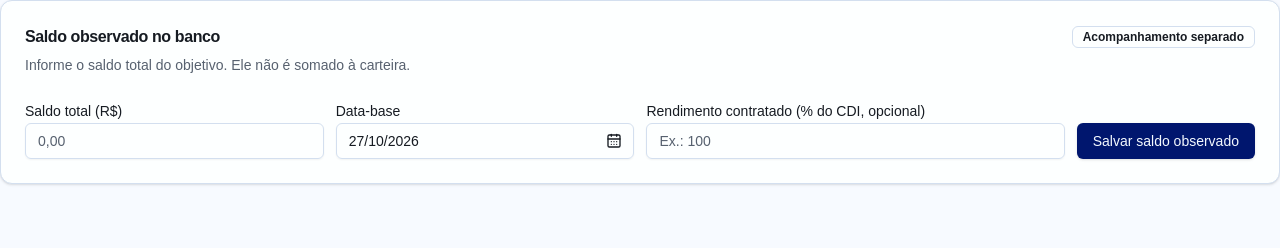
PortfolioObjectiveBalanceTracking › requires an observed amount before saving
Step 1. Click the button "Salvar saldo observado" → click(1166, 141), box [1077,123,1255,159]
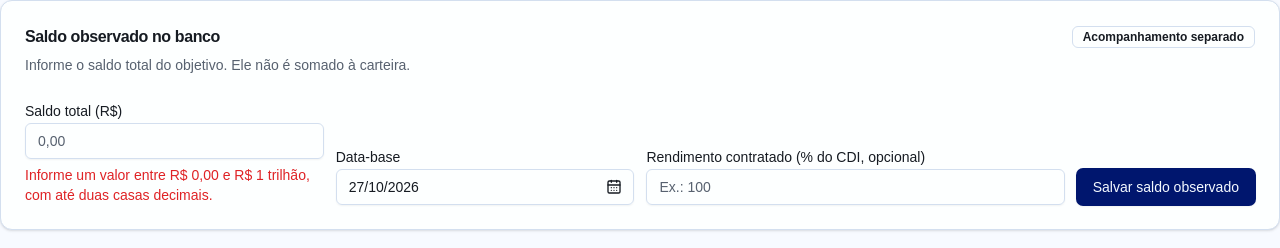
Result: the text "Informe um valor entre R$ 0,00 e R$ 1 trilhão, com até duas casas decimais." is shown at [25,165,324,205]
